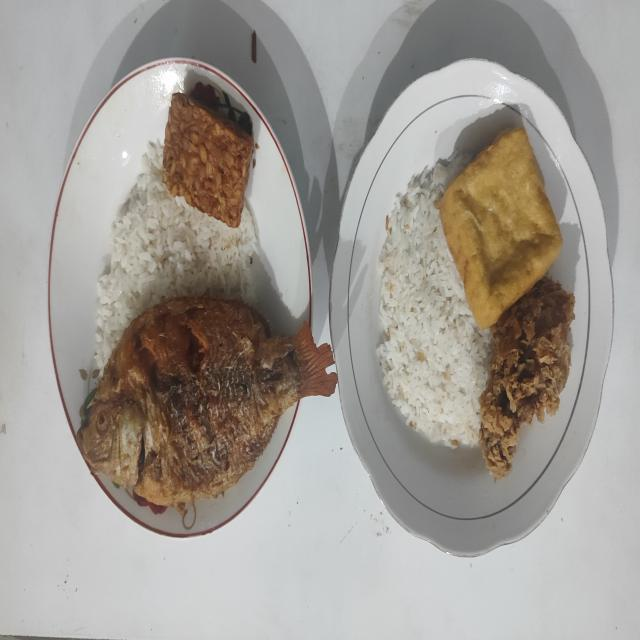ikan_mujair: (78, 297, 338, 515)
nasi_putih: (94, 140, 258, 375), (377, 155, 491, 446)
tahu_goreng: (439, 129, 562, 328)
tempe_goreng: (164, 92, 255, 228)
